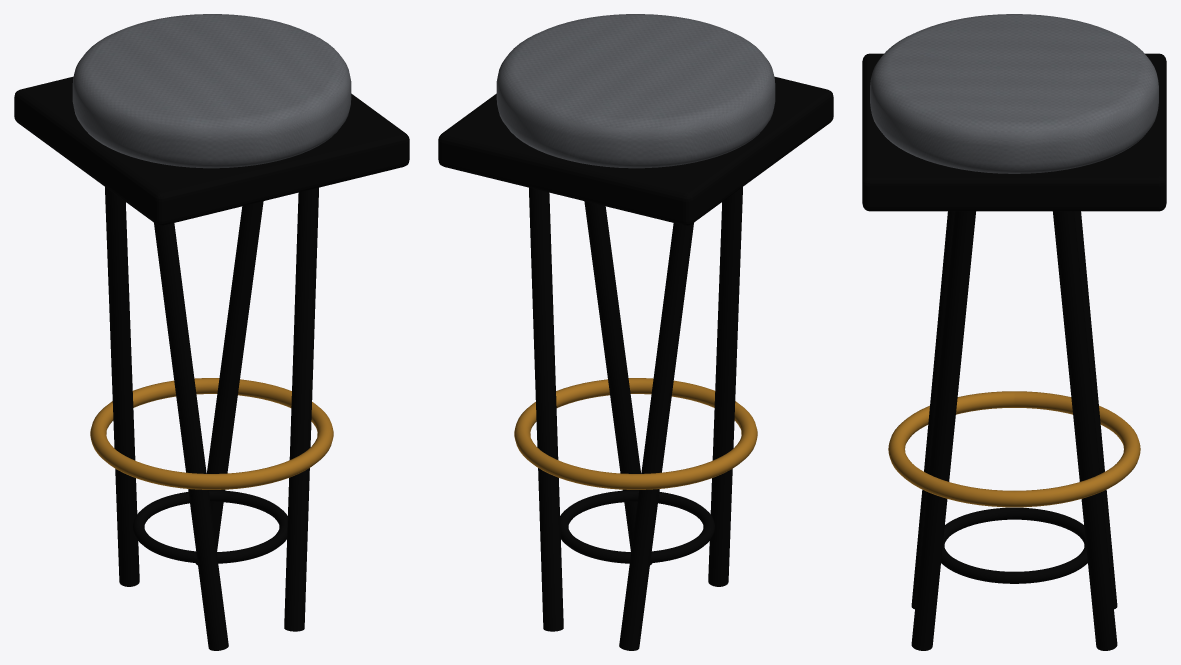
The model's file is razoredge-modern-bar-stool.glb.
3 views of the same model, side by side, from view 1: azimuth 30°, elevation 25°; view 2: azimuth 150°, elevation 25°; view 3: azimuth 270°, elevation 25° (orthographic). The views are drawn at different scales.
Parts seen in each view (by area): view 1: seat, seat_frame, leg.003, leg.002, leg.001, footrest, leg, stretcher; view 2: seat, seat_frame, leg, leg.001, leg.002, footrest, leg.003, stretcher; view 3: seat, seat_frame, leg, leg.003, footrest, stretcher, leg.001, leg.002.
Part boxes in pixels (bbox=[...]): seat: bbox=[72, 14, 351, 168]; seat_frame: bbox=[14, 76, 409, 225]; leg.003: bbox=[284, 187, 318, 631]; leg.002: bbox=[154, 223, 228, 650]; leg.001: bbox=[105, 187, 139, 586]; footrest: bbox=[90, 378, 333, 489]; leg: bbox=[195, 201, 263, 565]; stretcher: bbox=[133, 490, 287, 563]; seat: bbox=[496, 14, 775, 168]; seat_frame: bbox=[438, 76, 833, 225]; leg: bbox=[529, 187, 563, 631]; leg.001: bbox=[619, 223, 693, 650]; leg.002: bbox=[708, 187, 742, 586]; footrest: bbox=[514, 378, 757, 489]; leg.003: bbox=[584, 201, 652, 565]; stretcher: bbox=[560, 490, 714, 563]; seat: bbox=[870, 14, 1158, 173]; seat_frame: bbox=[862, 53, 1166, 211]; leg: bbox=[1053, 211, 1117, 650]; leg.003: bbox=[911, 211, 975, 650]; footrest: bbox=[888, 391, 1140, 507]; stretcher: bbox=[941, 507, 1087, 583]; leg.001: bbox=[1074, 211, 1117, 609]; leg.002: bbox=[911, 211, 954, 609].
Size of the model in its own units: 0.4 by 0.8115 by 0.4.
Materials: 3 (2 with a texture image).
